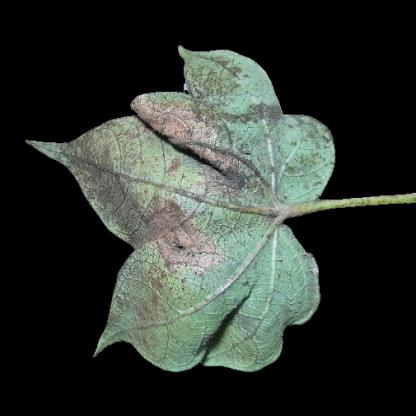sooty: (154, 102, 247, 218)
